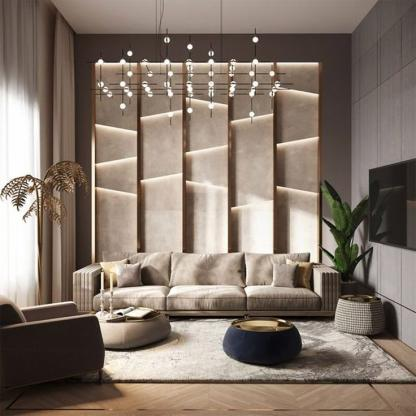Wall Panel: (71, 33, 361, 316)
